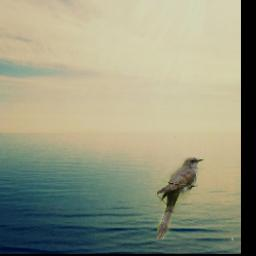Cuckoo: (157, 157, 204, 240)
